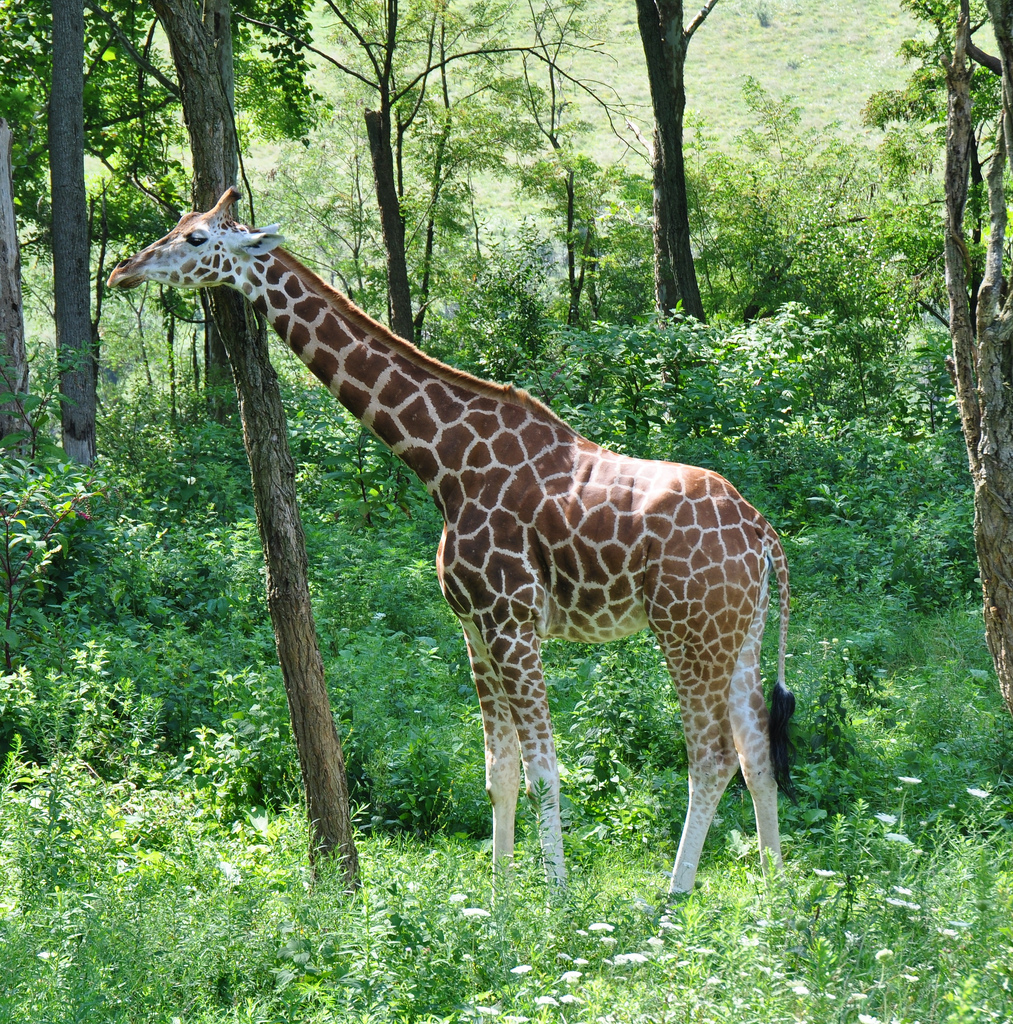giraffe: (99, 187, 847, 922)
